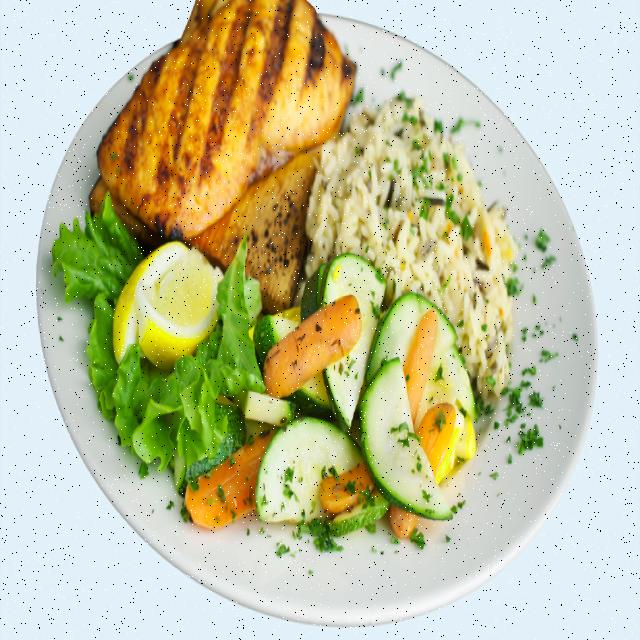Chicken: (98, 0, 355, 239)
Fruits: (113, 242, 223, 368)
Green veg: (53, 199, 264, 493), (359, 292, 457, 519), (289, 254, 386, 430), (256, 417, 361, 524), (186, 392, 293, 478), (419, 313, 475, 458), (366, 292, 436, 381), (329, 489, 388, 536), (254, 315, 299, 369)
Non green veg: (262, 295, 361, 398), (187, 430, 272, 526), (403, 309, 438, 409), (415, 403, 455, 478), (319, 463, 374, 514), (390, 506, 419, 537)
Rice: (306, 96, 517, 396)
